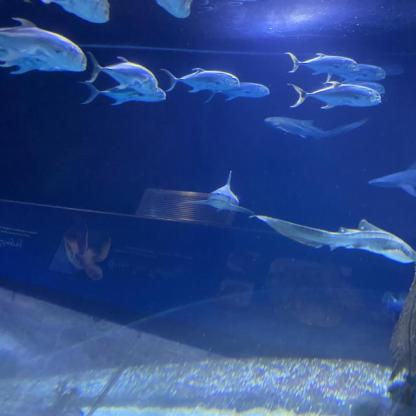fish: (0, 18, 75, 68), (88, 51, 158, 93), (287, 81, 383, 110), (10, 42, 88, 74), (77, 81, 168, 106), (161, 67, 241, 94), (41, 0, 112, 25), (285, 53, 359, 74), (203, 82, 270, 102), (323, 63, 386, 82), (155, 0, 195, 19)
shark: (252, 214, 416, 263), (183, 170, 256, 220), (266, 117, 368, 138), (370, 162, 416, 198)
